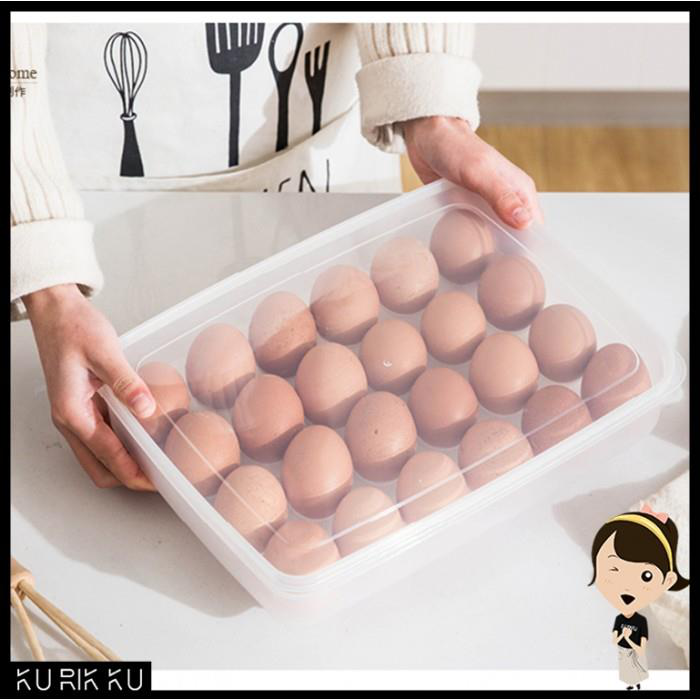egg: (123, 210, 653, 576)
